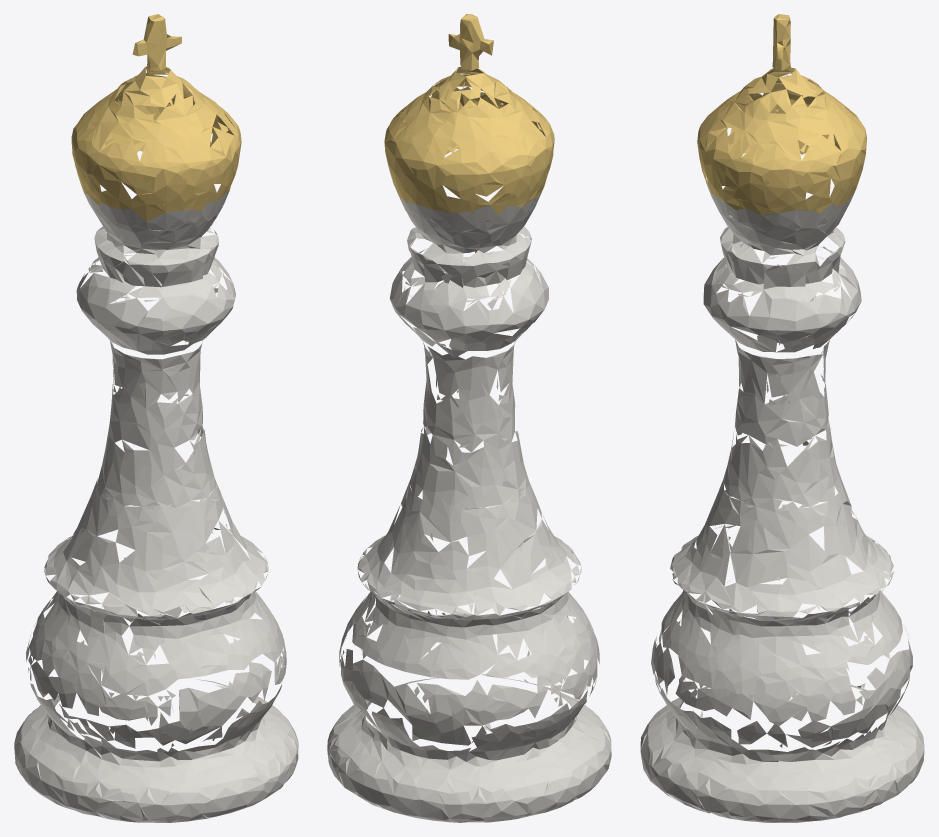
File: gercek7_k_w.glb
The picture shows the model from 3 angles, left to right: view 1: azimuth 30°, elevation 25°; view 2: azimuth 150°, elevation 25°; view 3: azimuth 270°, elevation 25°; orthographic projection.
Visible parts, largest first — view 1: world; view 2: world; view 3: world.
Part boxes in pixels (x1,y1,x2,y2): world: (14,14,298,822); world: (327,14,611,822); world: (640,14,924,822).
Size of the model in its own units: 0.3053 by 0.9002 by 0.3058.
